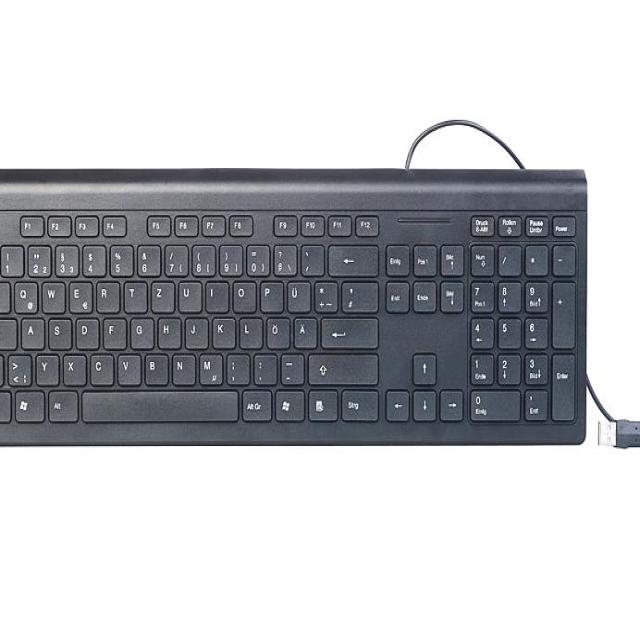0: (243, 241, 268, 273)
1: (0, 241, 22, 274)
2: (24, 241, 49, 273)
3: (52, 241, 77, 274)
4: (80, 240, 104, 273)
5: (107, 241, 132, 274)
6: (134, 241, 159, 274)
7: (162, 240, 187, 273)
8: (189, 240, 214, 274)
9: (217, 240, 241, 273)
a: (19, 314, 43, 347)
accent: (298, 241, 322, 273)
ae: (291, 313, 316, 346)
alt-left: (44, 386, 77, 420)
altgr-right: (240, 385, 270, 419)
b: (142, 350, 167, 383)
c: (87, 350, 112, 383)
caret: (0, 241, 12, 273)
comma: (224, 350, 248, 383)
d: (73, 314, 97, 347)
del: (326, 241, 377, 273)
e: (66, 277, 91, 310)
enter: (318, 313, 377, 346)
f: (100, 314, 125, 347)
g: (128, 314, 153, 346)
h: (156, 314, 180, 347)
hash: (339, 277, 378, 310)
i: (203, 277, 228, 310)
j: (182, 313, 206, 346)
k: (209, 314, 234, 346)
keyboard: (0, 197, 588, 441)
l: (237, 313, 261, 347)
less: (5, 350, 30, 383)
m: (196, 350, 220, 383)
minus: (278, 350, 303, 382)
n: (169, 350, 194, 383)
o: (230, 277, 255, 310)
oe: (264, 314, 289, 346)
p: (257, 277, 282, 310)
plus: (312, 277, 336, 310)
point: (251, 350, 276, 383)
q: (11, 277, 36, 310)
r: (94, 278, 119, 310)
s: (46, 314, 71, 347)
shift-left: (0, 351, 16, 383)
shift-lock: (0, 314, 23, 350)
shift-right: (306, 348, 377, 382)
space: (79, 386, 237, 420)
ss: (271, 241, 295, 273)
strg-left: (0, 386, 20, 420)
strg-right: (338, 385, 378, 419)
t: (121, 277, 145, 310)
tab: (0, 276, 19, 310)
u: (176, 277, 200, 310)
ue: (284, 277, 309, 310)
v: (115, 350, 140, 383)
w: (39, 278, 64, 310)
x: (60, 351, 85, 383)
y: (33, 350, 58, 383)
z: (148, 277, 173, 310)
